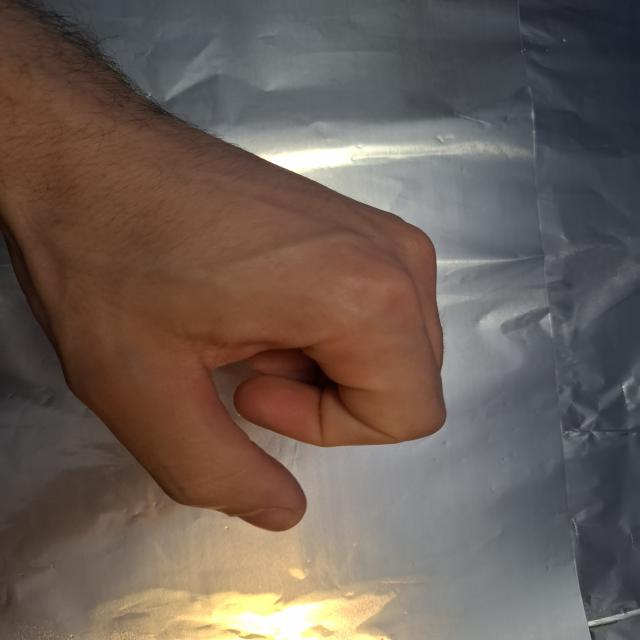glove_off: (6, 95, 448, 534)
